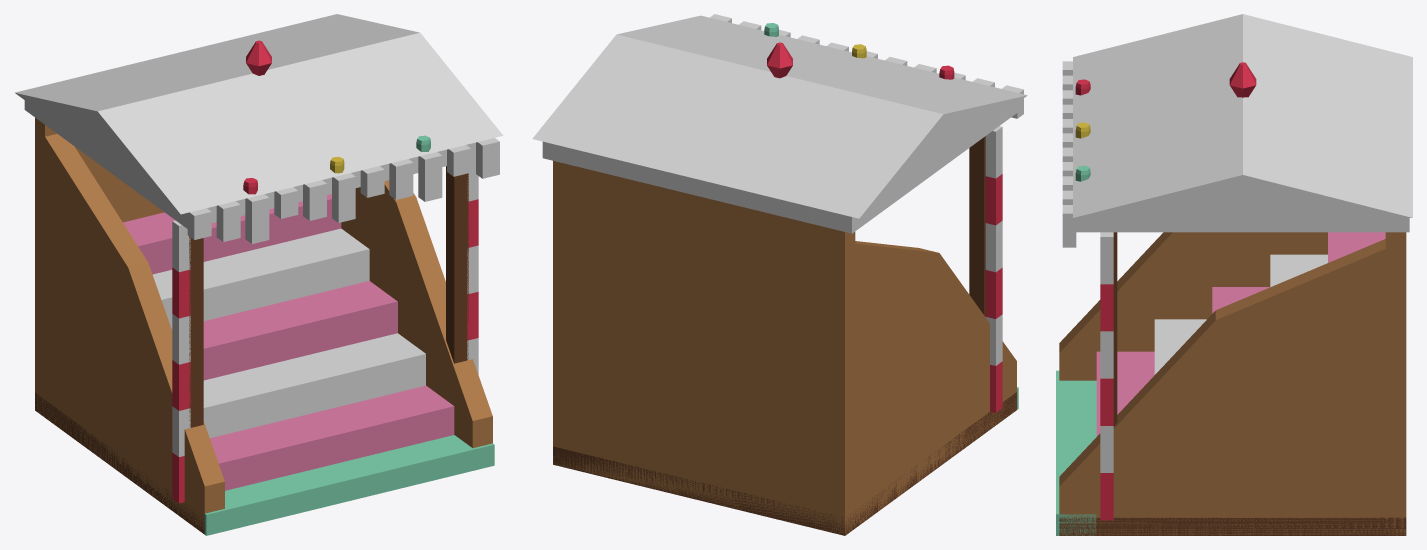
File: stand.glb
3 renders of one model, left to right at view 1: azimuth 30°, elevation 25°; view 2: azimuth 150°, elevation 25°; view 3: azimuth 270°, elevation 25°, orthographic. The views are drawn at different scales.
Parts seen in each view (by area): view 1: candyLand-stand; view 2: candyLand-stand; view 3: candyLand-stand.
Boxes of the visible parts, x1,y1,x2,y2 form: candyLand-stand: [15, 14, 503, 535]; candyLand-stand: [532, 14, 1027, 535]; candyLand-stand: [1056, 14, 1412, 535].
Bounding box in the file's own units: 1.12 × 1.3 × 1.05.
